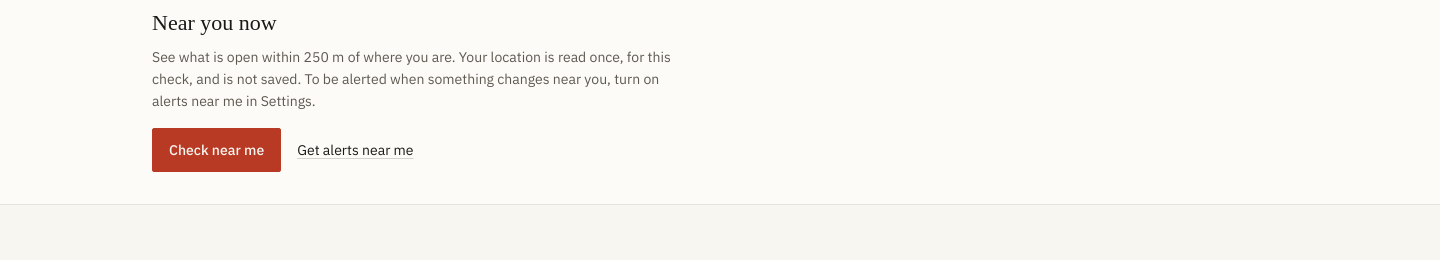
Scenario: Near you now (home) › explains how to enable location when it was declined, and does not ask again
Click the button "Check near me". click: (217,150)
box: [152,128,281,172]
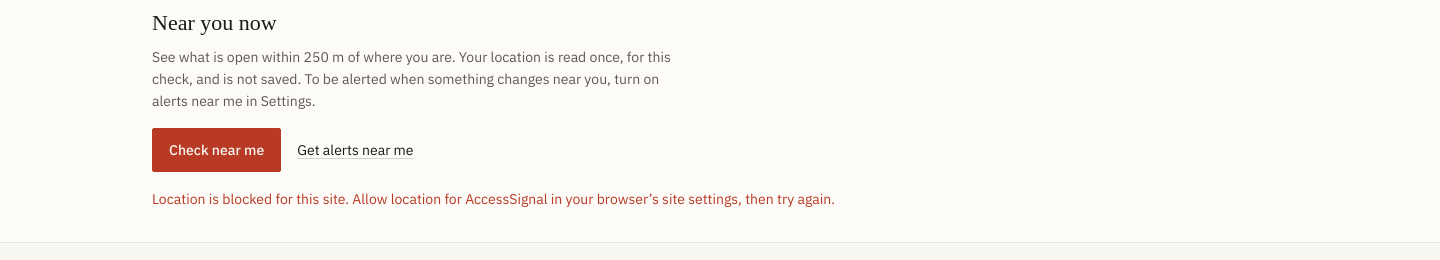
Check: the message shows "Location is blocked for this site", box [152,190,835,208]
